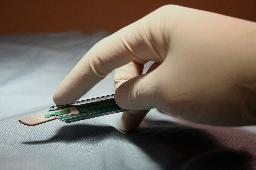scalpel: (18, 93, 132, 127)
